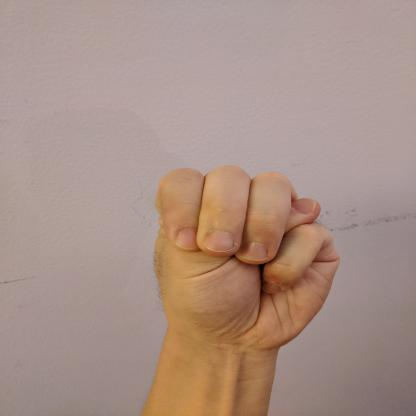M: (145, 162, 348, 352)
